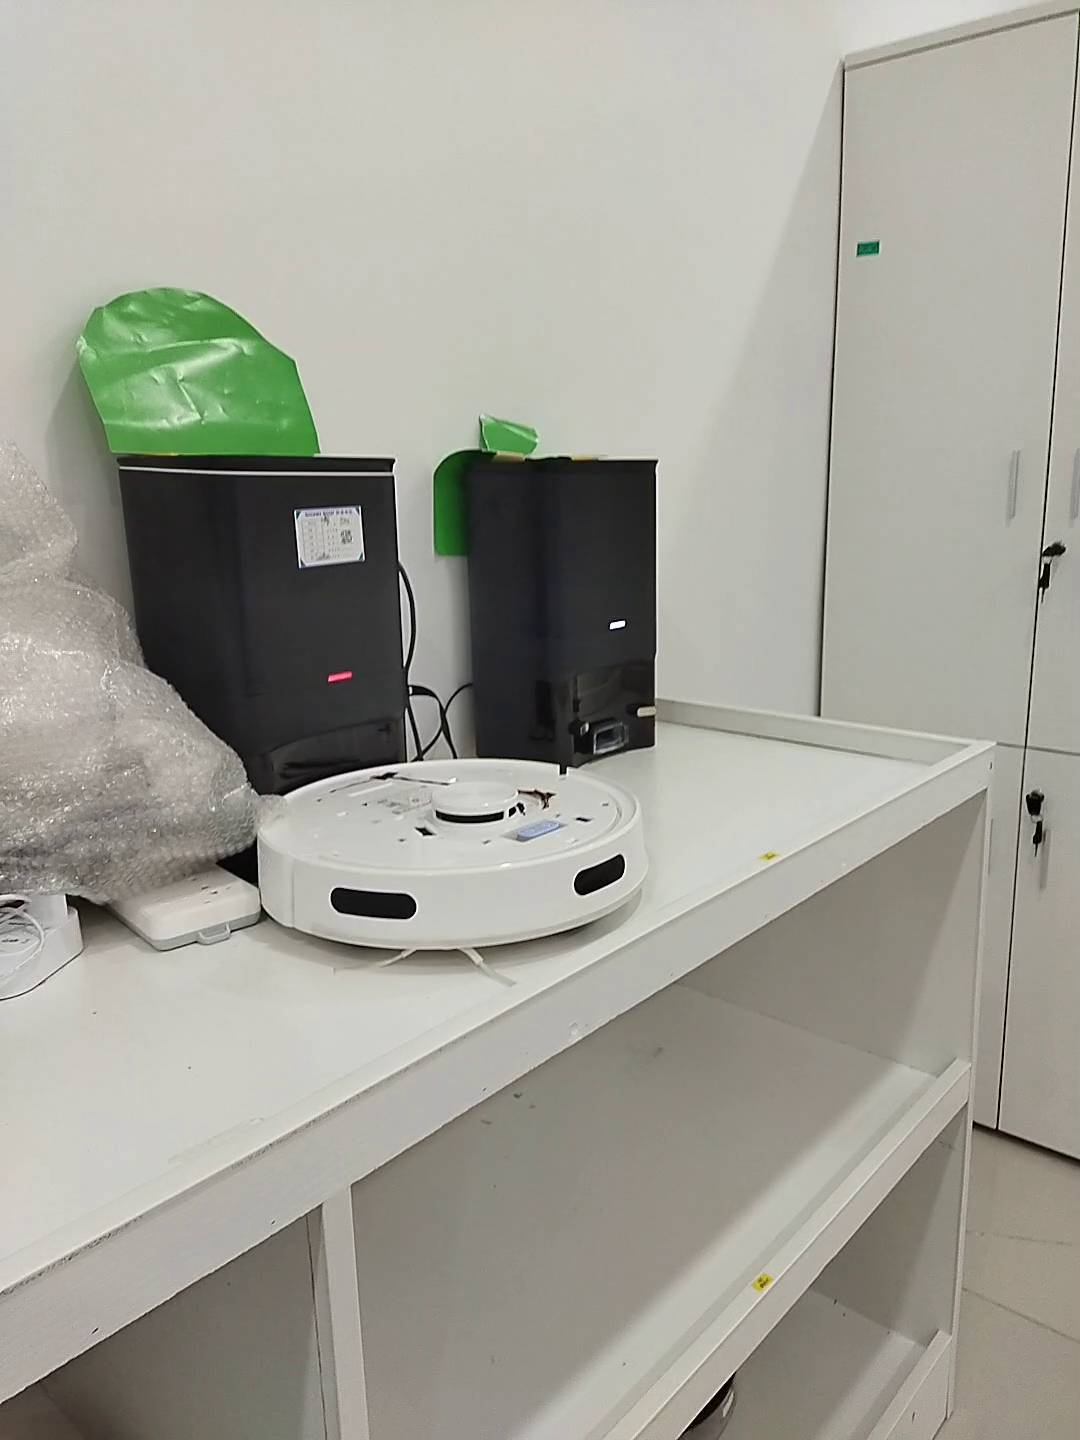dust collecting barrel: (118, 454, 411, 799), (459, 458, 665, 771)
